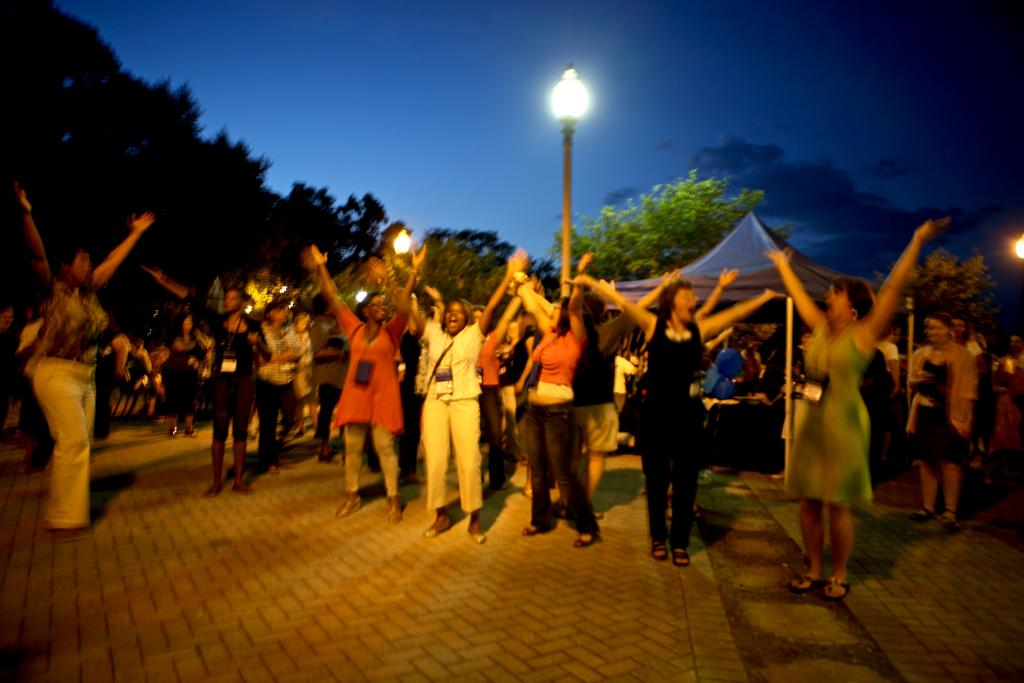face: (824, 285, 849, 318), (673, 289, 696, 323), (71, 254, 93, 284), (445, 301, 465, 333), (547, 301, 564, 328), (927, 320, 945, 342), (369, 295, 386, 318), (225, 292, 239, 310), (271, 307, 286, 321)
